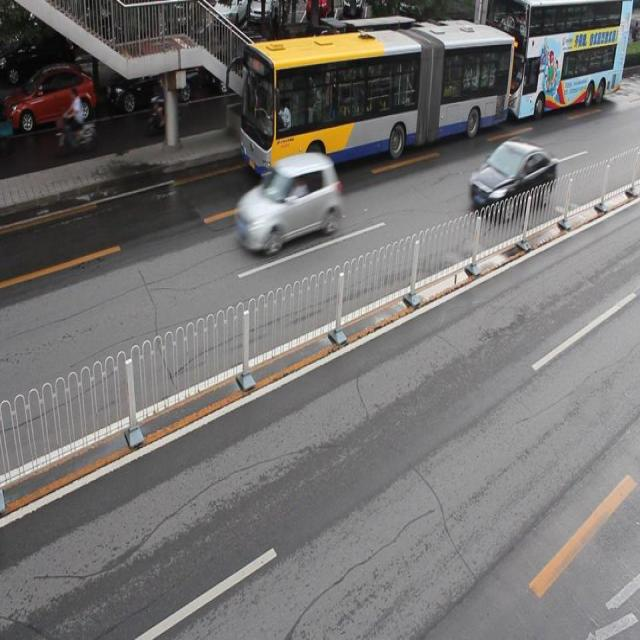car: (236, 152, 342, 250), (469, 140, 554, 218), (1, 63, 94, 129), (104, 46, 198, 107), (209, 33, 277, 96), (290, 32, 362, 91)
van: (241, 21, 512, 178), (485, 1, 630, 119)
